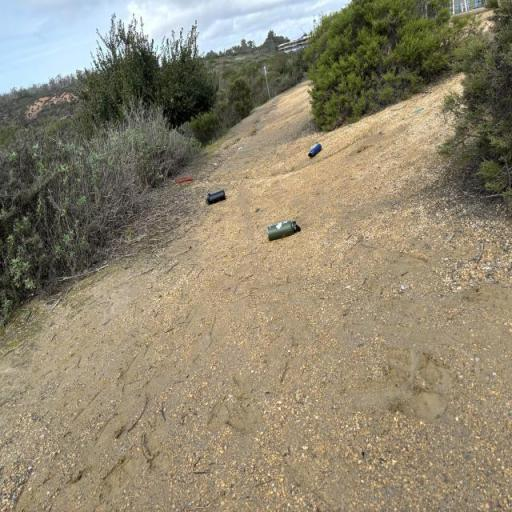bottle: (204, 188, 227, 206), (307, 142, 325, 160)
mallet: (175, 176, 194, 184)
